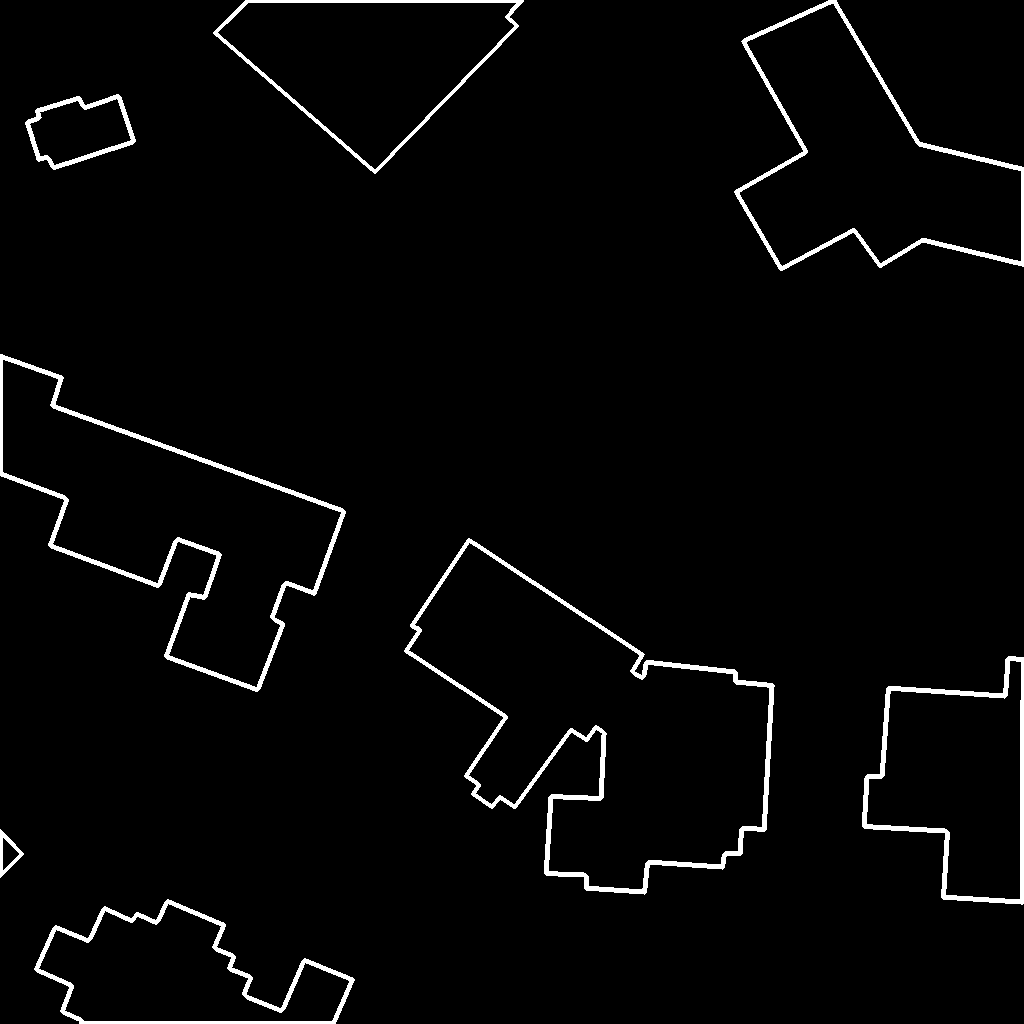building: (406, 540, 773, 893), (0, 356, 345, 691), (736, 0, 1024, 270), (215, 0, 524, 173), (864, 658, 1024, 903), (36, 901, 354, 1024), (27, 96, 135, 169), (0, 831, 23, 877)
